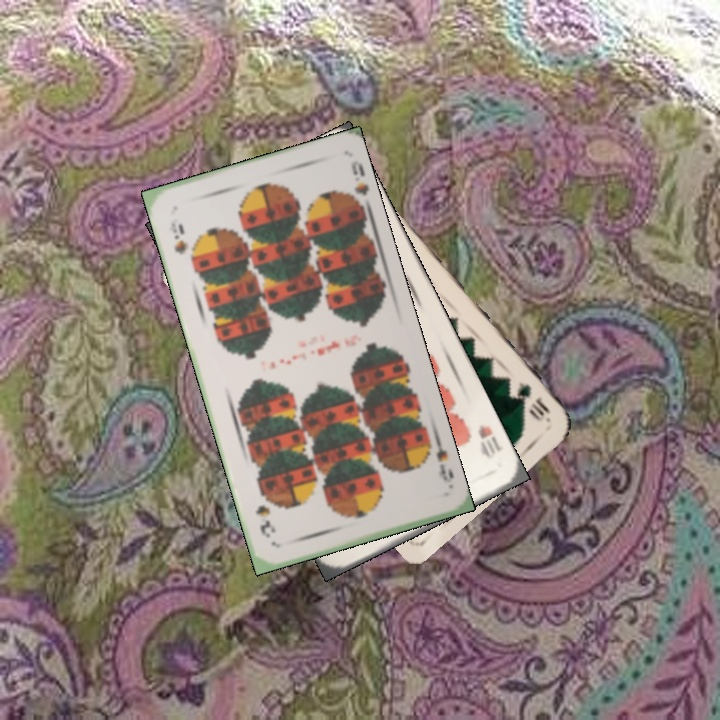G10: (513, 377, 554, 423)
H10: (474, 421, 505, 462)
S9: (419, 431, 456, 490), (164, 218, 190, 257)
